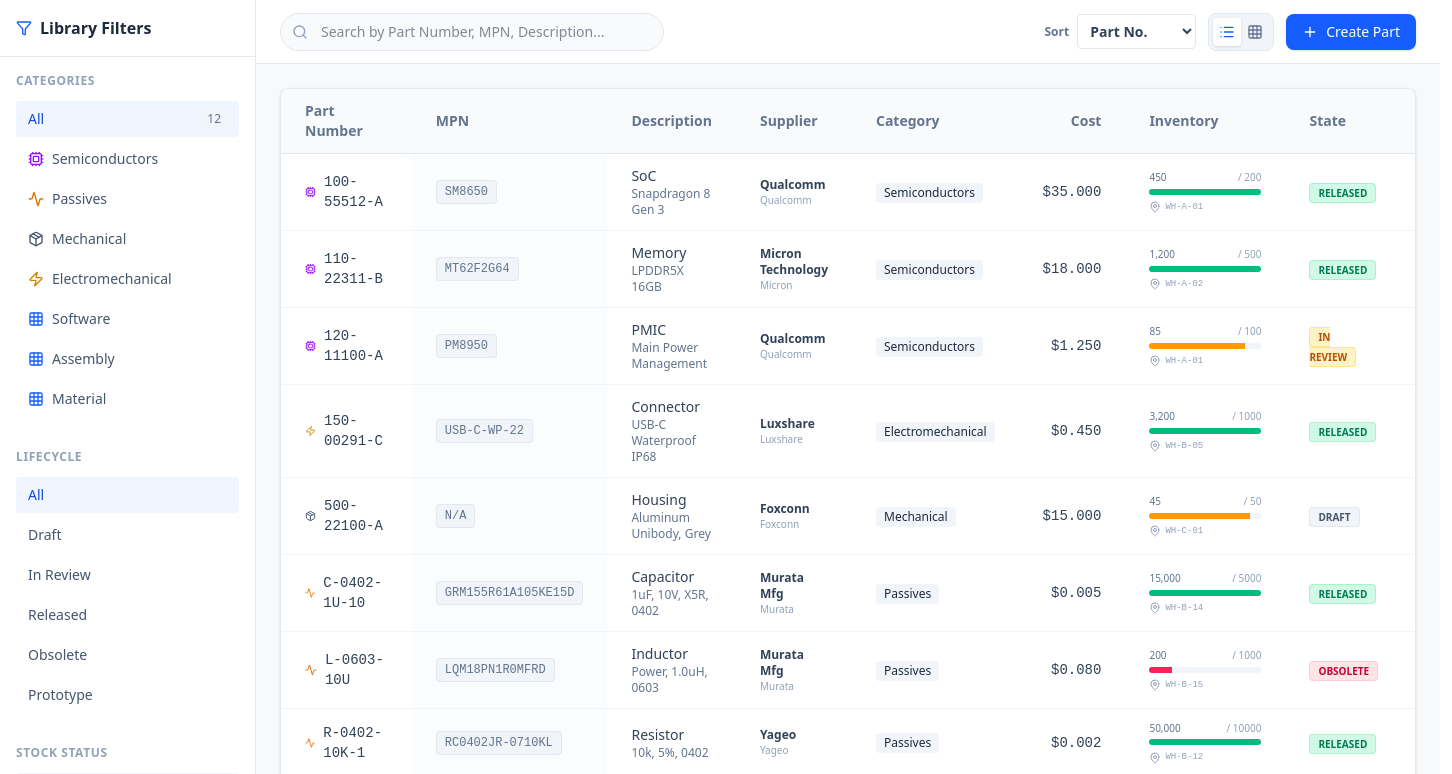
production core flows › shows tooling linkage from a concrete Part Library record
The width and height of the screenshot is (1452, 774).
Type "ZP-A-STD-COVER-BLK" into the field with placeholder "Search by Part Number, MPN, Description..." at (472, 32), box [280, 12, 664, 50]
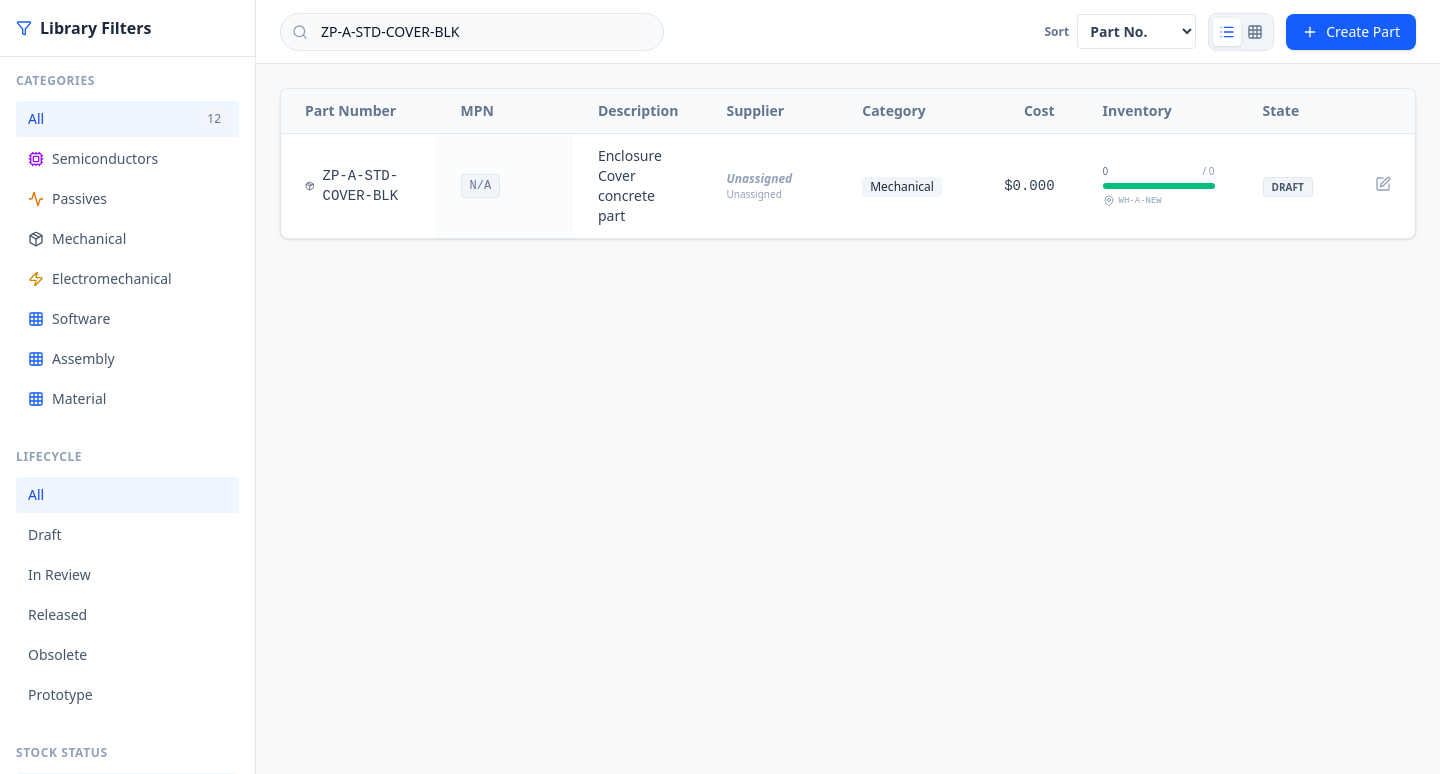
Click the text "ZP-A-STD-COVER-BLK" at (359, 186), box [305, 166, 413, 206]
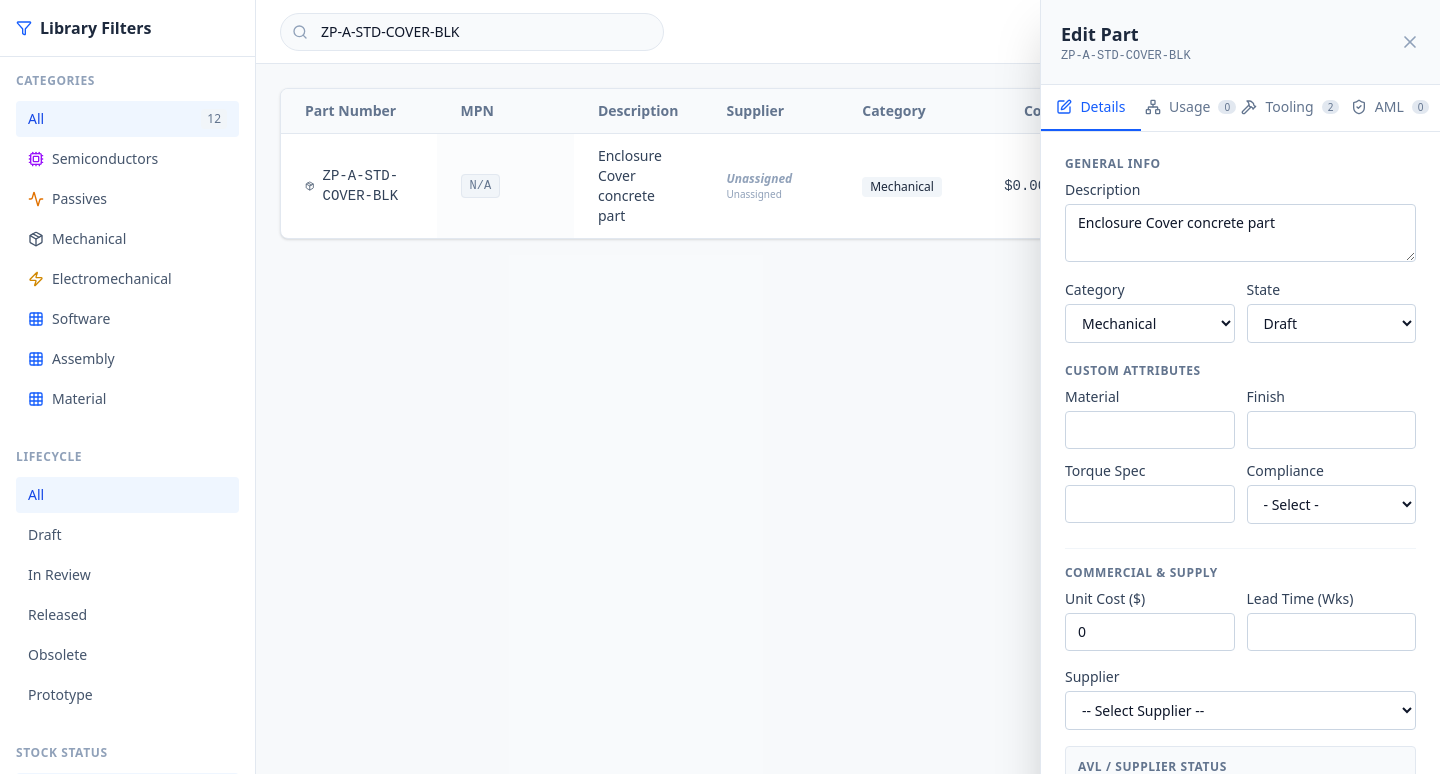
Click the button "Tooling 2" at (1290, 108), box [1240, 85, 1340, 131]
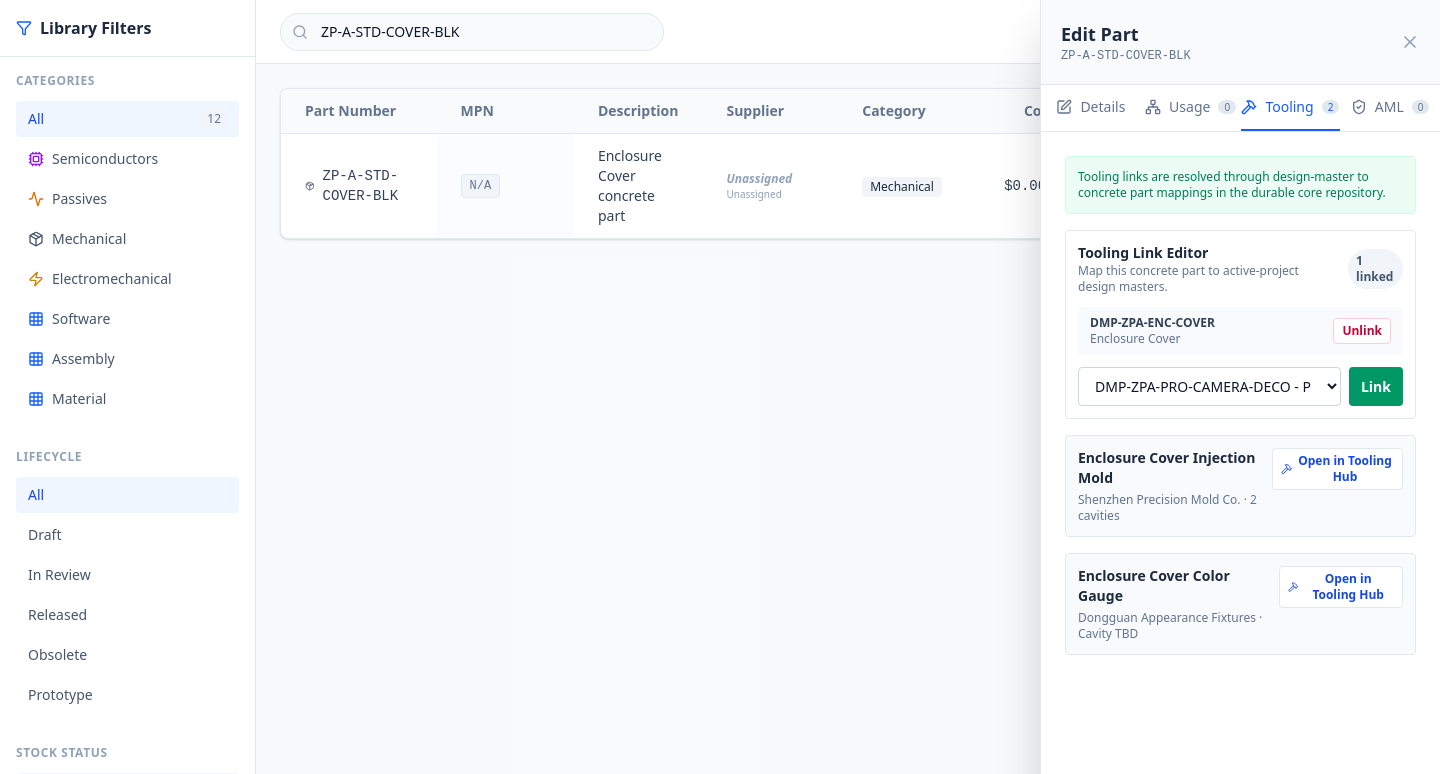
Expected: the text "Enclosure Cover Injection Mold" is shown, [1078, 448, 1260, 488]
